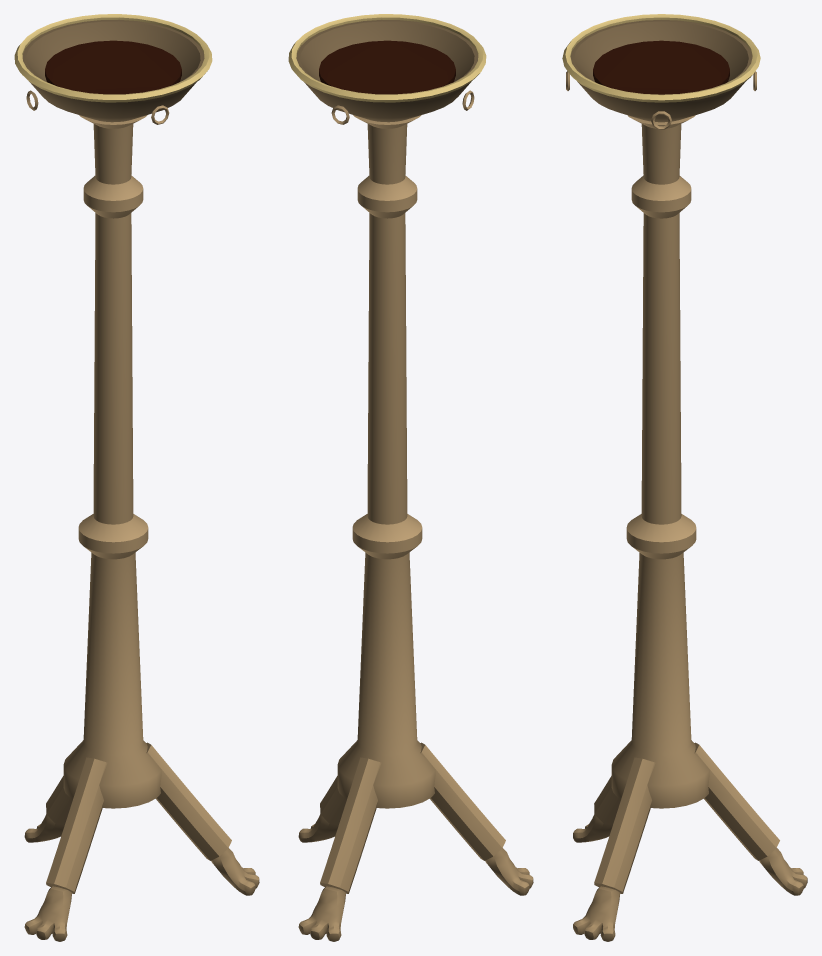
The model's file is obj_kit_oillamp.glb.
3 renders of one model, left to right at view 1: azimuth 30°, elevation 25°; view 2: azimuth 150°, elevation 25°; view 3: azimuth 270°, elevation 25°, orthographic.
Parts seen in each view (by area): view 1: shaft, bowl, Cylinder, leg.001, Torus, leg.002, paw.001, paw.002, leg, paw; view 2: shaft, bowl, Cylinder, leg, Torus, leg.001, paw, paw.001, leg.002, paw.002; view 3: shaft, bowl, Cylinder, leg.002, Torus, leg, paw.002, paw, leg.001, paw.001.
Boxes of the visible parts, x1,y1,x2,y2 form: shaft: (63,115,161,808); bowl: (22,19,204,122); Cylinder: (45,40,181,94); leg.001: (46,757,107,893); Torus: (14,14,212,102); leg.002: (146,742,231,860); paw.001: (24,886,71,941); paw.002: (211,848,259,895); leg: (46,776,72,824); paw: (24,814,64,842); shaft: (337,115,435,808); bowl: (296,19,478,122); Cylinder: (319,40,455,94); leg: (320,757,381,893); Torus: (288,14,486,102); leg.001: (420,742,505,860); paw: (298,886,345,941); paw.001: (485,848,533,895); leg.002: (320,776,346,824); paw.002: (298,814,338,842); shaft: (611,115,709,808); bowl: (570,20,752,122); Cylinder: (593,40,729,94); leg.002: (594,757,655,893); Torus: (562,14,760,102); leg: (694,742,779,860); paw.002: (573,886,620,941); paw: (759,848,807,895); leg.001: (594,776,620,824); paw.001: (573,814,612,842).
Size of the model in its own units: 0.4216 by 1.48 by 0.3932.
